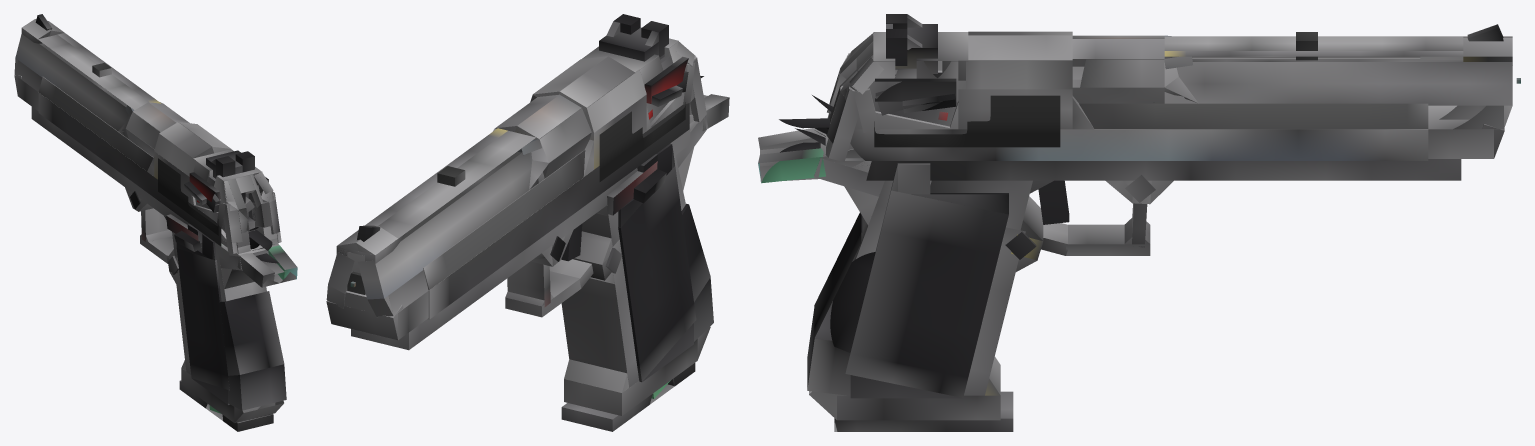
File: deserteagle.fbx
3 renders of one model, left to right at view 1: azimuth 30°, elevation 25°; view 2: azimuth 150°, elevation 25°; view 3: azimuth 270°, elevation 25°, orthographic. The views are drawn at different scales.
Visible parts, largest first — view 1: gun, slide, magazine, hammer; view 2: gun, slide, magazine, _cb_scope; view 3: gun, slide, magazine, hammer.
Part boxes in pixels (x1,y1,x2,y2): gun: (14, 14, 297, 422); slide: (38, 77, 281, 253); magazine: (179, 380, 273, 431); hammer: (248, 227, 279, 263); gun: (326, 94, 729, 415); slide: (423, 14, 706, 319); magazine: (561, 363, 695, 431); _cb_scope: (437, 166, 465, 186); gun: (758, 24, 1512, 420); slide: (825, 14, 1428, 161); magazine: (834, 391, 1013, 431); hammer: (779, 95, 833, 152).
Bounding box in the file's own units: 32.65 × 123 × 217.
